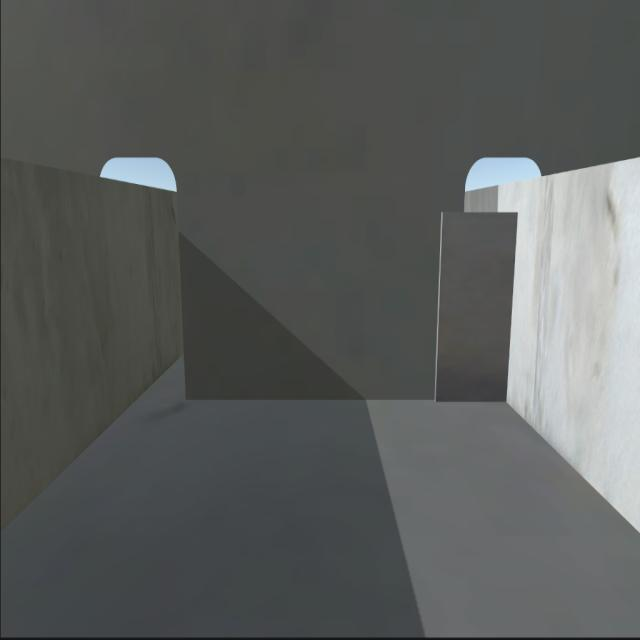fillet_yong_jeop_jang: (188, 394, 507, 404)
longi_yong_jeop_jang: (502, 215, 522, 407)
plate_CP01: (440, 208, 511, 400)
